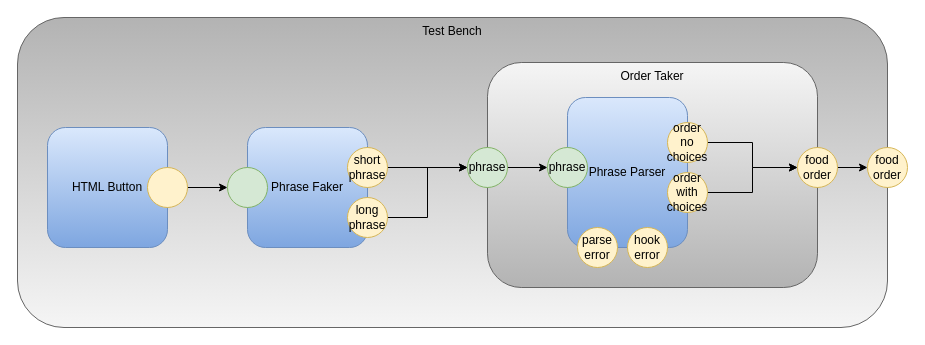
Image size: 925x345. Some labels were removed from this diagram. Each missing label, with the centre of its shape:
"click" goes at (167,187).
"go" goes at (247,187).
